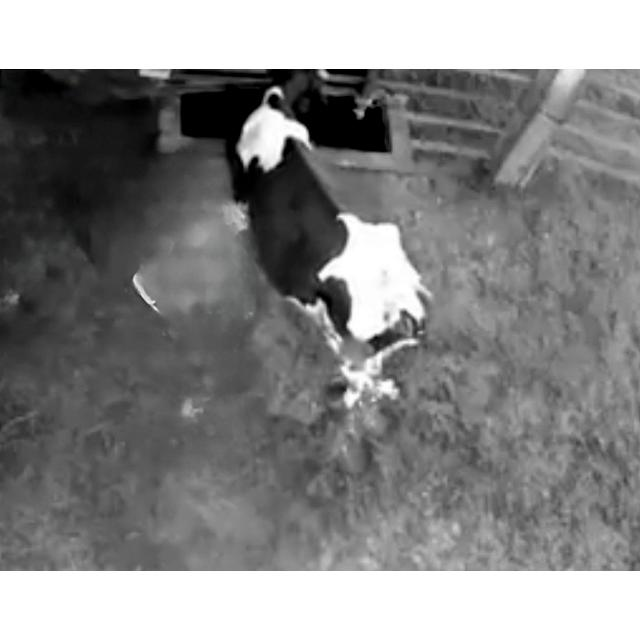drink: (218, 69, 386, 193)
